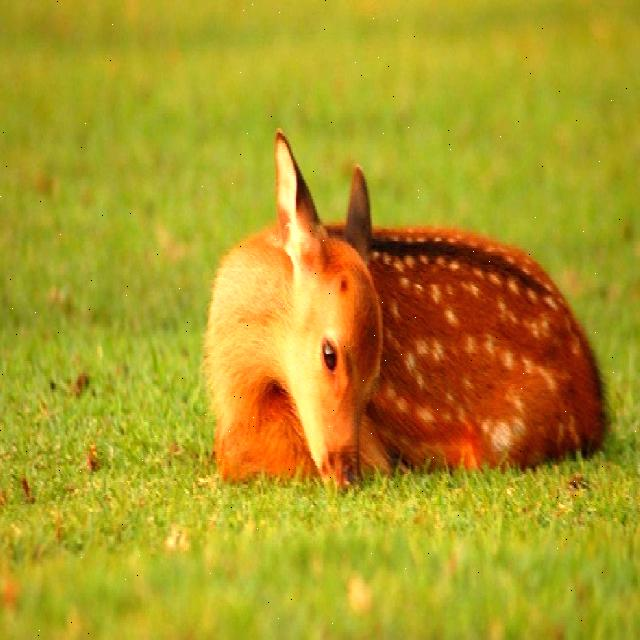deer: (224, 126, 388, 507)
